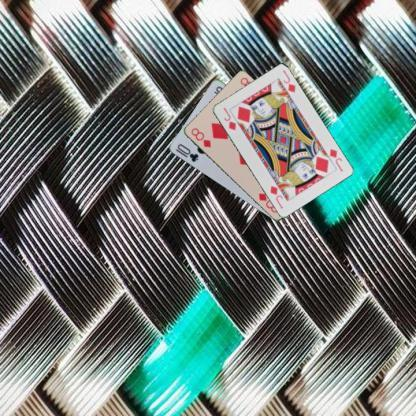10c: (174, 140, 200, 164)
8d: (188, 126, 212, 148)
Jd: (326, 146, 344, 173), (221, 106, 237, 132)
